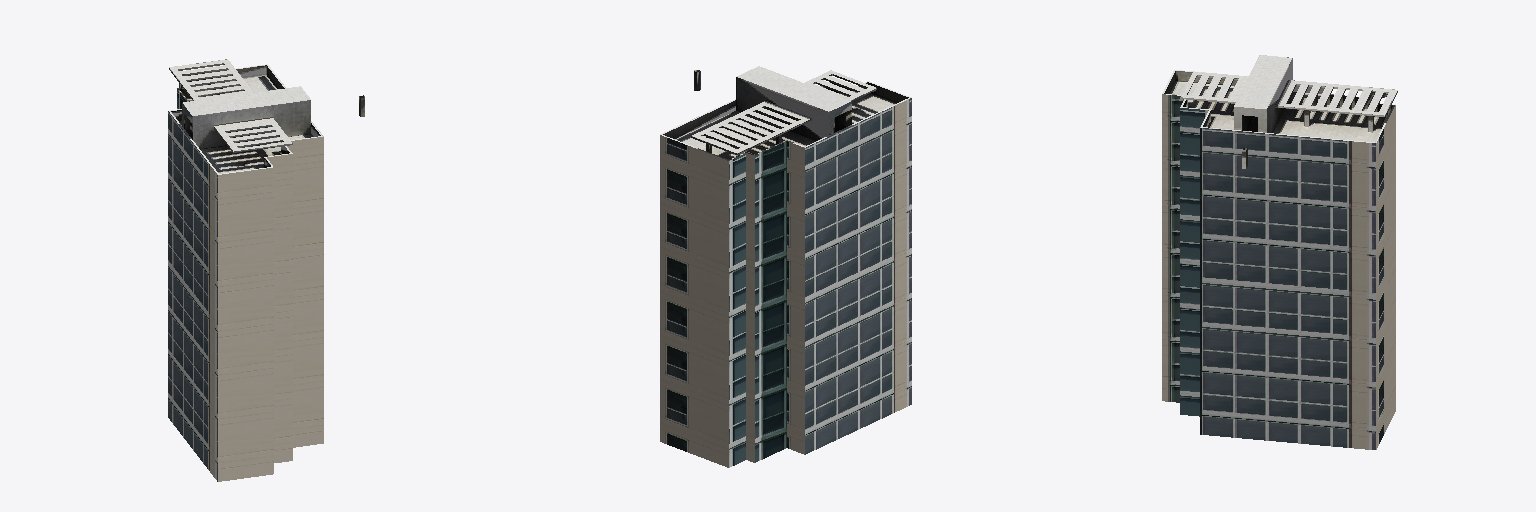
The picture shows the model from 3 angles: view 1: azimuth 30°, elevation 25°; view 2: azimuth 150°, elevation 25°; view 3: azimuth 270°, elevation 25°; orthographic projection.
Visible parts, largest first — view 1: JZ_JX_630; view 2: JZ_JX_630; view 3: JZ_JX_630.
Boxes of the visible parts, x1,y1,x2,y2 form: JZ_JX_630: [168, 59, 364, 481]; JZ_JX_630: [660, 66, 911, 467]; JZ_JX_630: [1162, 55, 1397, 449].
Size of the model in its own units: 1480 by 2564 by 1661.
2 materials, 2 textured.